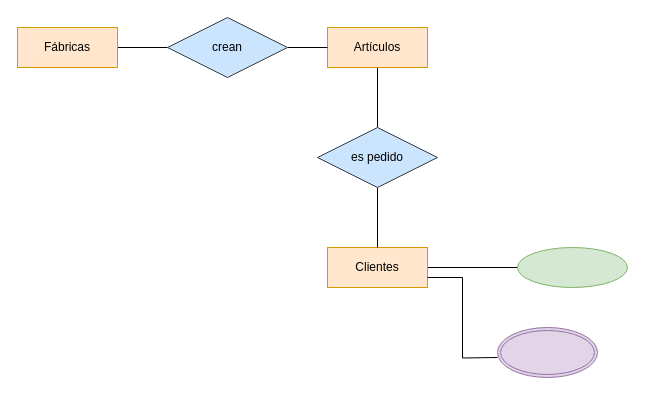
Some shapes in this 645 by 395 pixel diagram are drawn without their labels. Here are the shapes that lost their labels. From the top down, the centre of each, then its label:
[572,267]: Número de cliente
[547,352]: Dirección de envio
